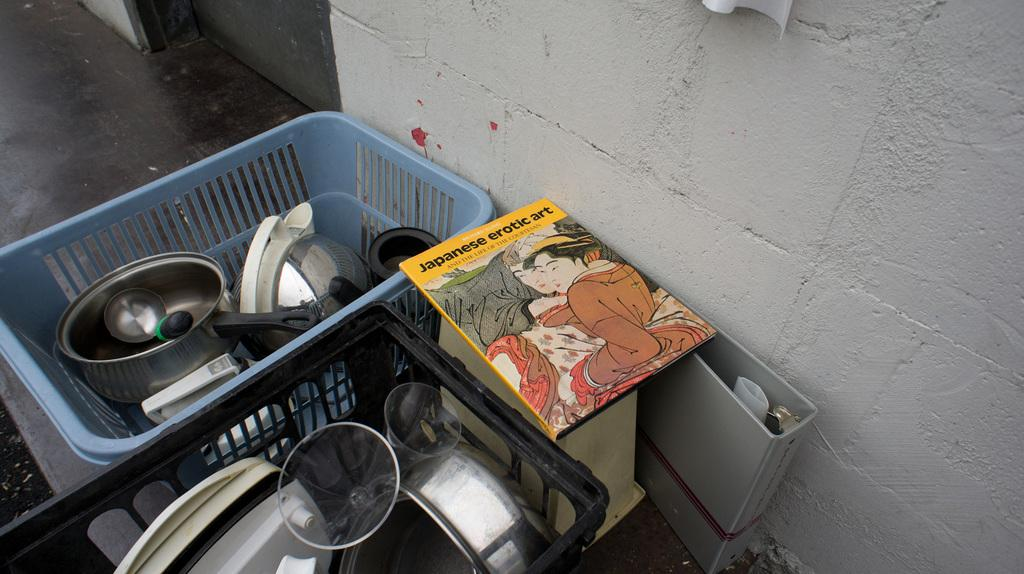book: (398, 197, 714, 445)
